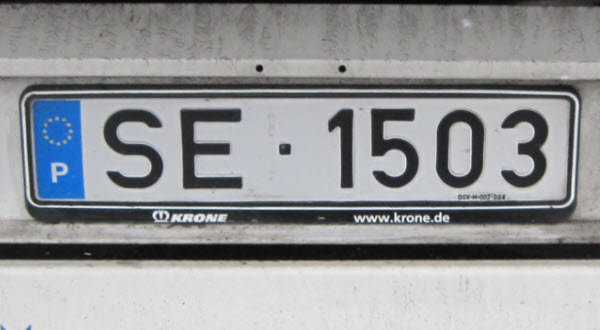license_plate: (26, 94, 574, 207)
